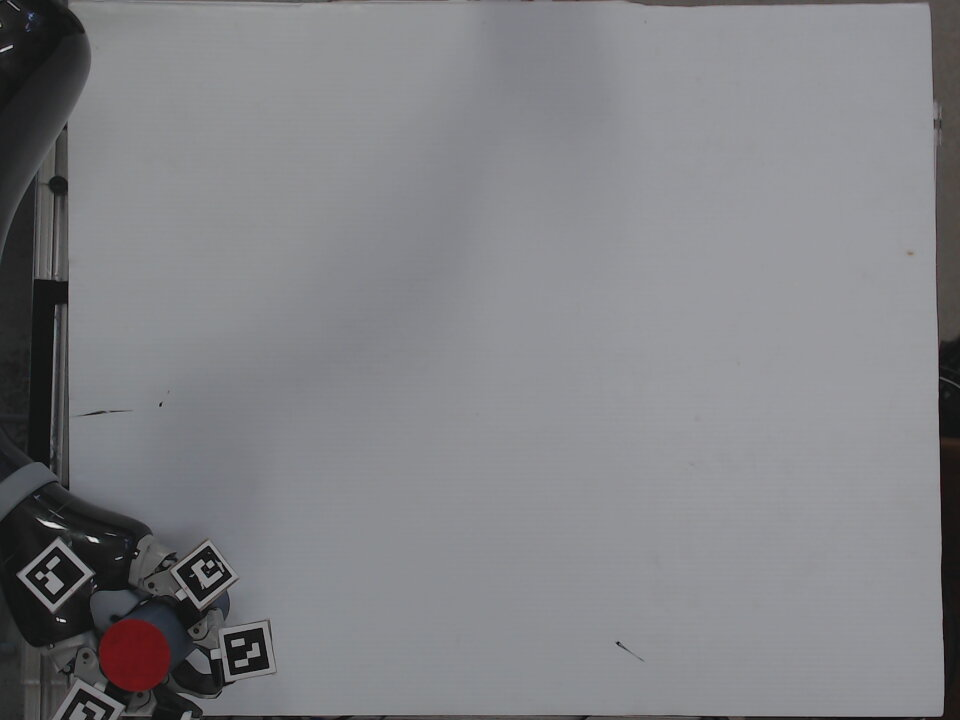cylinder: (94, 588, 238, 698)
